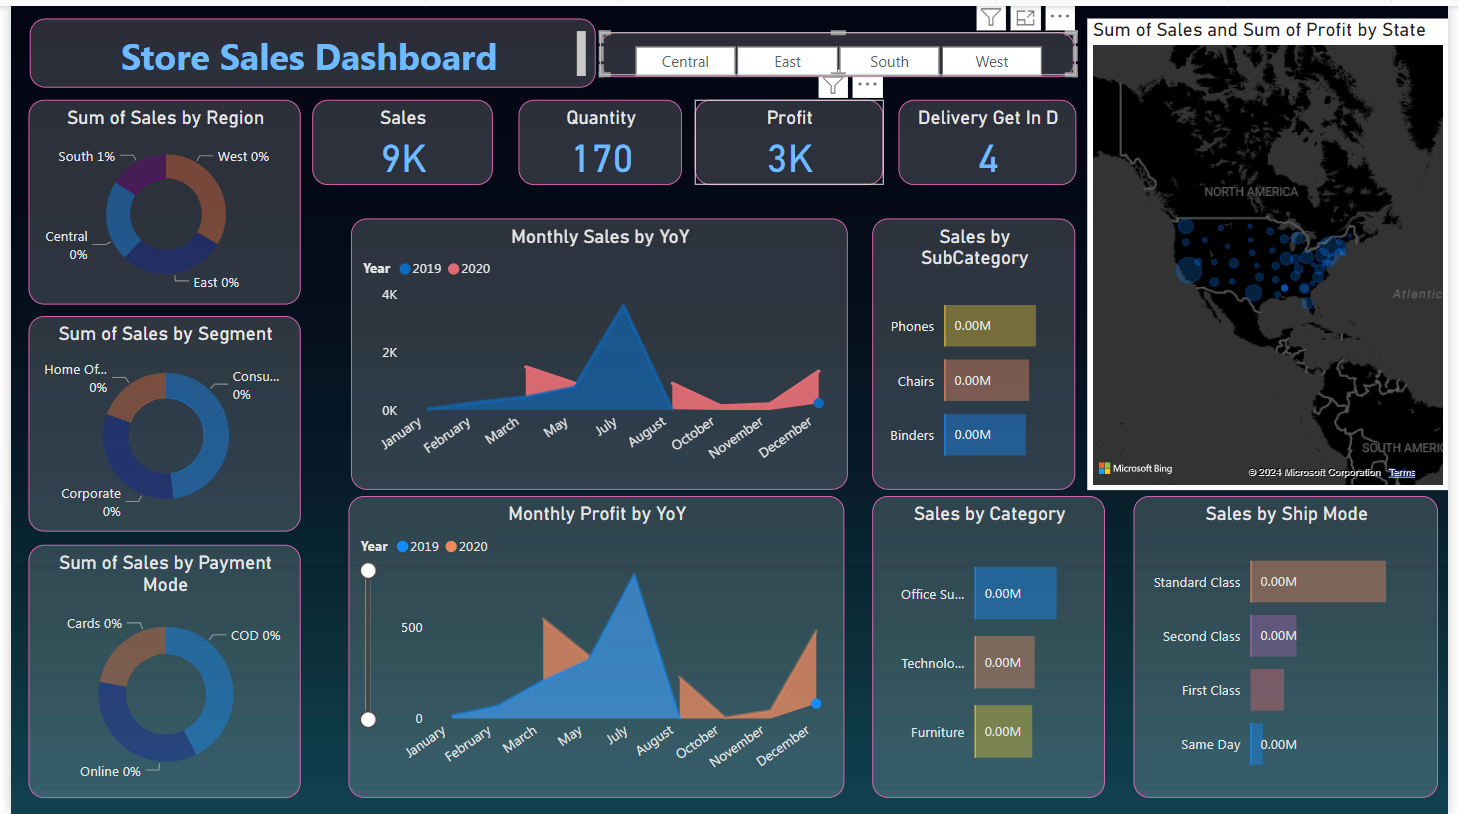

What the dashboard file says about the page in this screenshot:
{"tool":"powerbi","page":{"name":"Page 1","canvas":[1280,720],"ordinal":0},"visuals":[{"type":"clusteredBarChart","title":"Sales by Category","fields":{"Y":["Sum(SuperStore_Sales_Dataset.Sales)"],"Category":["SuperStore_Sales_Dataset.Category"]},"box":[767.3,436.7,207.5,269],"z":0},{"type":"clusteredBarChart","title":"Sales by SubCategory","fields":{"Y":["Sum(SuperStore_Sales_Dataset.Sales)"],"Category":["SuperStore_Sales_Dataset.Sub-Category"]},"box":[767.3,189.4,181,241.3],"z":1000},{"type":"clusteredBarChart","title":"Sales by Ship Mode","fields":{"Y":["Sum(SuperStore_Sales_Dataset.Sales)"],"Category":["SuperStore_Sales_Dataset.Ship Mode"]},"box":[1000.1,436.7,271.4,269],"z":2000},{"type":"stackedAreaChart","title":"Monthly Profit by YoY","fields":{"Category":["SuperStore_Sales_Dataset.Order Date.Variation.Date Hierarchy.Month","SuperStore_Sales_Dataset.Order Date.Variation.Date Hierarchy.Day"],"Series":["SuperStore_Sales_Dataset.Order Date.Variation.Date Hierarchy.Year"],"Y":["Sum(SuperStore_Sales_Dataset.Profit)"]},"box":[300.4,436.7,441.6,269],"z":3000},{"type":"stackedAreaChart","title":"Monthly Sales by YoY","fields":{"Y":["Sum(SuperStore_Sales_Dataset.Sales)"],"Category":["SuperStore_Sales_Dataset.Order Date.Variation.Date Hierarchy.Month","SuperStore_Sales_Dataset.Order Date.Variation.Date Hierarchy.Day"],"Series":["SuperStore_Sales_Dataset.Order Date.Variation.Date Hierarchy.Year"]},"box":[302.8,189.4,442.8,241.3],"z":4000},{"type":"map","fields":{"Category":["SuperStore_Sales_Dataset.State"],"Size":["Sum(SuperStore_Sales_Dataset.Sales)"]},"box":[957.9,10.9,322.1,419.8],"z":5000},{"type":"donutChart","fields":{"Category":["SuperStore_Sales_Dataset.Segment"],"Y":["Sum(SuperStore_Sales_Dataset.Sales)"]},"box":[15.7,276.3,242.5,191.8],"z":6000},{"type":"donutChart","fields":{"Category":["SuperStore_Sales_Dataset.Payment Mode"],"Y":["Sum(SuperStore_Sales_Dataset.Sales)"]},"box":[15.7,480.2,242.5,225.6],"z":7000},{"type":"slicer","fields":{"Values":["SuperStore_Sales_Dataset.Region"]},"box":[524.8,22.9,423.5,39.8],"z":8000},{"type":"textbox","box":[16.9,10.9,504.3,61.5],"z":9000},{"type":"card","title":"Sales","fields":{"Values":["Sum(SuperStore_Sales_Dataset.Sales)"]},"box":[267.8,83.2,160.5,76],"z":10000},{"type":"card","title":"Quantity","fields":{"Values":["Sum(SuperStore_Sales_Dataset.Quantity)"]},"box":[452.4,83.2,146,76],"z":11000},{"type":"card","title":"Profit","fields":{"Values":["Sum(SuperStore_Sales_Dataset.Profit)"]},"box":[609.3,83.2,167.7,76],"z":12000},{"type":"card","title":"Delivery Get In D","fields":{"Values":["Avg(SuperStore_Sales_Dataset.AvgDelivery)"]},"box":[790.2,83.2,158,76],"z":13000},{"type":"donutChart","fields":{"Category":["SuperStore_Sales_Dataset.Region"],"Y":["Sum(SuperStore_Sales_Dataset.Sales)"]},"box":[15.7,83.2,242.5,182.2],"z":14000}]}

Visuals, with their boxes in screenshot pixels (x1, y1, x2, y2), scaled from the page's 1280x720 canvas onto the 1458x814 screenshot:
"Sales by Category" clusteredBarChart: box(874, 494, 1110, 798)
"Sales by SubCategory" clusteredBarChart: box(874, 214, 1080, 487)
"Sales by Ship Mode" clusteredBarChart: box(1139, 494, 1448, 798)
"Monthly Profit by YoY" stackedAreaChart: box(342, 494, 845, 798)
"Monthly Sales by YoY" stackedAreaChart: box(345, 214, 849, 487)
map - SuperStore_Sales_Dataset.State x Sum(SuperStore_Sales_Dataset.Sales): box(1091, 12, 1457, 487)
donutChart - SuperStore_Sales_Dataset.Segment x Sum(SuperStore_Sales_Dataset.Sales): box(18, 312, 294, 529)
donutChart - SuperStore_Sales_Dataset.Payment Mode x Sum(SuperStore_Sales_Dataset.Sales): box(18, 543, 294, 798)
slicer - SuperStore_Sales_Dataset.Region: box(598, 26, 1080, 71)
textbox: box(19, 12, 594, 82)
"Sales" card: box(305, 94, 488, 180)
"Quantity" card: box(515, 94, 682, 180)
"Profit" card: box(694, 94, 885, 180)
"Delivery Get In D" card: box(900, 94, 1080, 180)
donutChart - SuperStore_Sales_Dataset.Region x Sum(SuperStore_Sales_Dataset.Sales): box(18, 94, 294, 300)
